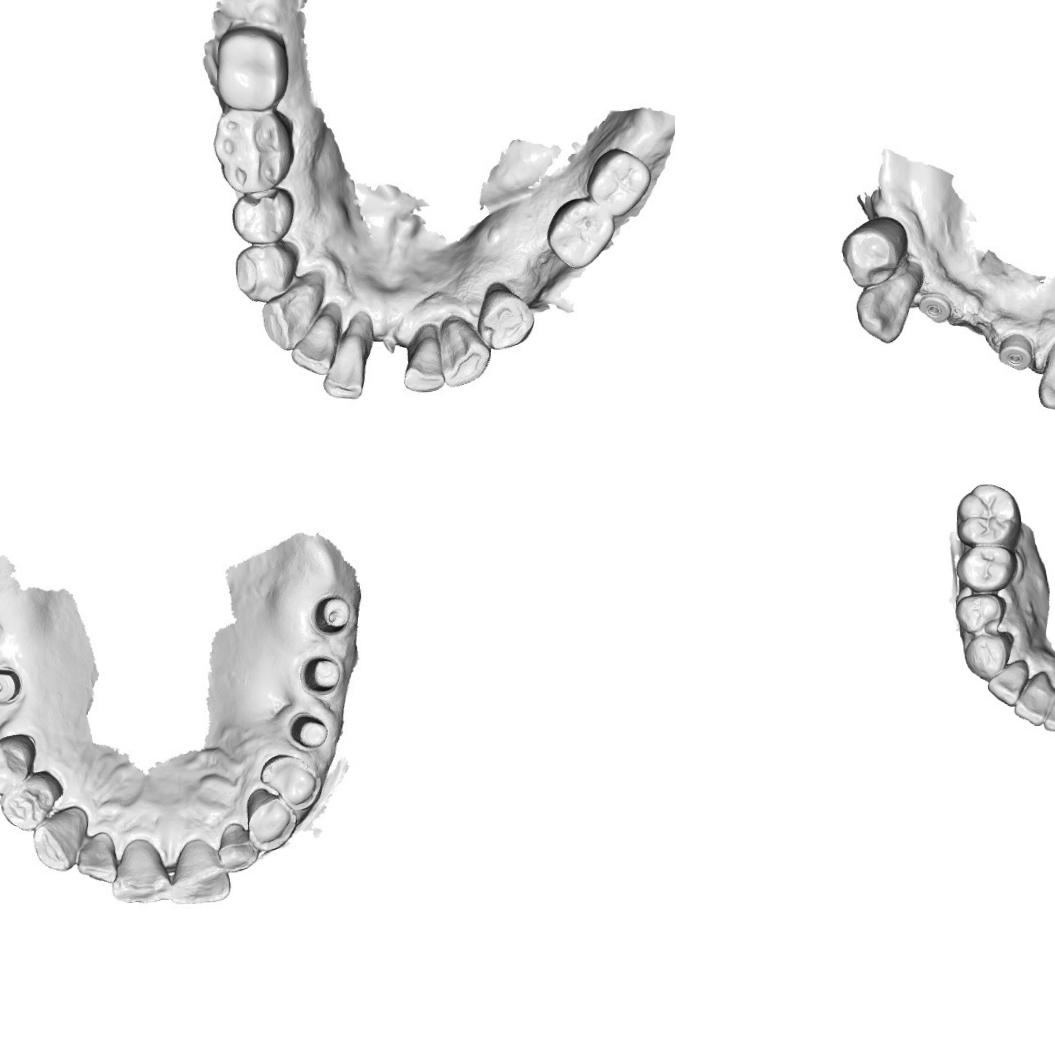abutment: (299, 652, 347, 697), (287, 708, 330, 753), (312, 593, 355, 637)
canine: (260, 280, 324, 352), (438, 312, 496, 390), (31, 804, 89, 876), (856, 273, 914, 343), (244, 788, 296, 853), (963, 630, 1015, 682), (1037, 337, 1055, 414)
implant: (919, 286, 954, 324), (1000, 332, 1030, 374), (0, 663, 23, 709)
incisor: (169, 835, 234, 906), (110, 836, 172, 909), (321, 329, 373, 402), (290, 311, 343, 380), (401, 331, 444, 395), (76, 829, 120, 887), (1012, 670, 1055, 727), (216, 821, 260, 874), (986, 659, 1030, 708), (1041, 686, 1055, 737)
molar: (212, 26, 291, 118), (213, 106, 292, 197), (544, 194, 616, 273), (954, 482, 1022, 550), (580, 150, 650, 214)
premolar: (840, 220, 910, 290), (257, 752, 323, 813), (0, 775, 62, 834), (235, 243, 300, 299), (954, 542, 1019, 592), (232, 190, 292, 242), (480, 284, 532, 344), (0, 732, 36, 795), (954, 592, 1008, 634)
